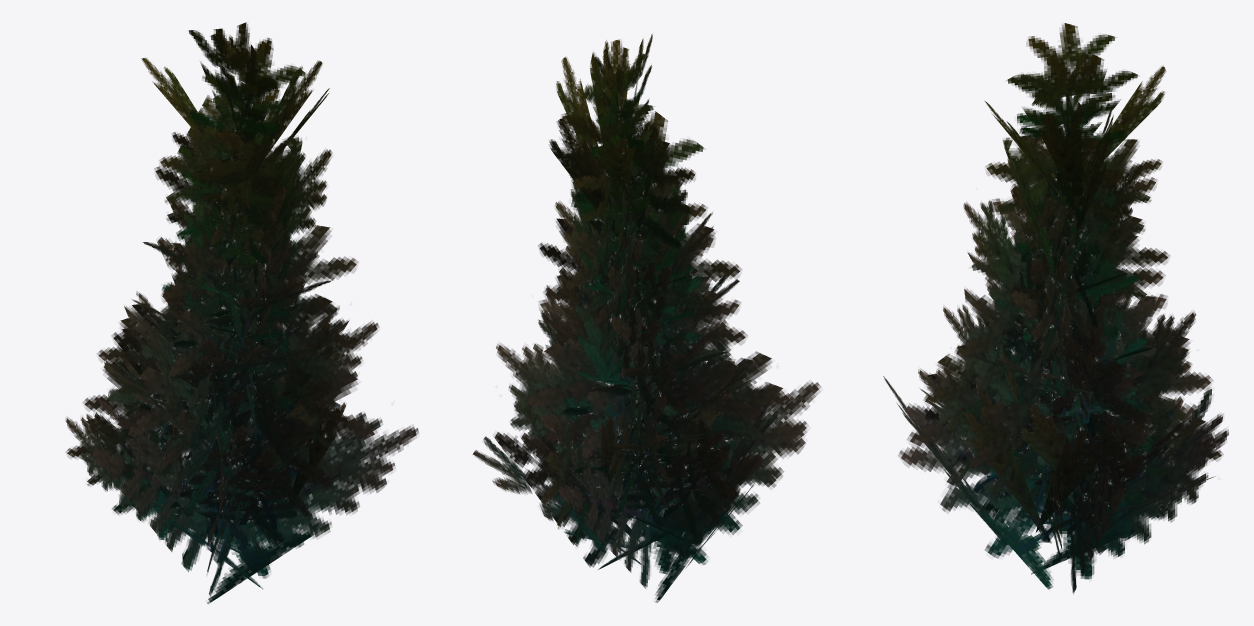
Rendered from spruce.glb.
3 views of the same model, side by side, from view 1: azimuth 30°, elevation 25°; view 2: azimuth 150°, elevation 25°; view 3: azimuth 270°, elevation 25° (orthographic). The views are drawn at different scales.
Parts seen in each view (by area): view 1: B_LOD2; view 2: B_LOD2; view 3: B_LOD2.
Boxes of the visible parts, x1,y1,x2,y2 form: B_LOD2: (65, 22, 418, 603); B_LOD2: (473, 33, 820, 602); B_LOD2: (883, 23, 1228, 593).
Size of the model in its own units: 2.08 by 3.6 by 2.06.
1 material, 1 textured.
